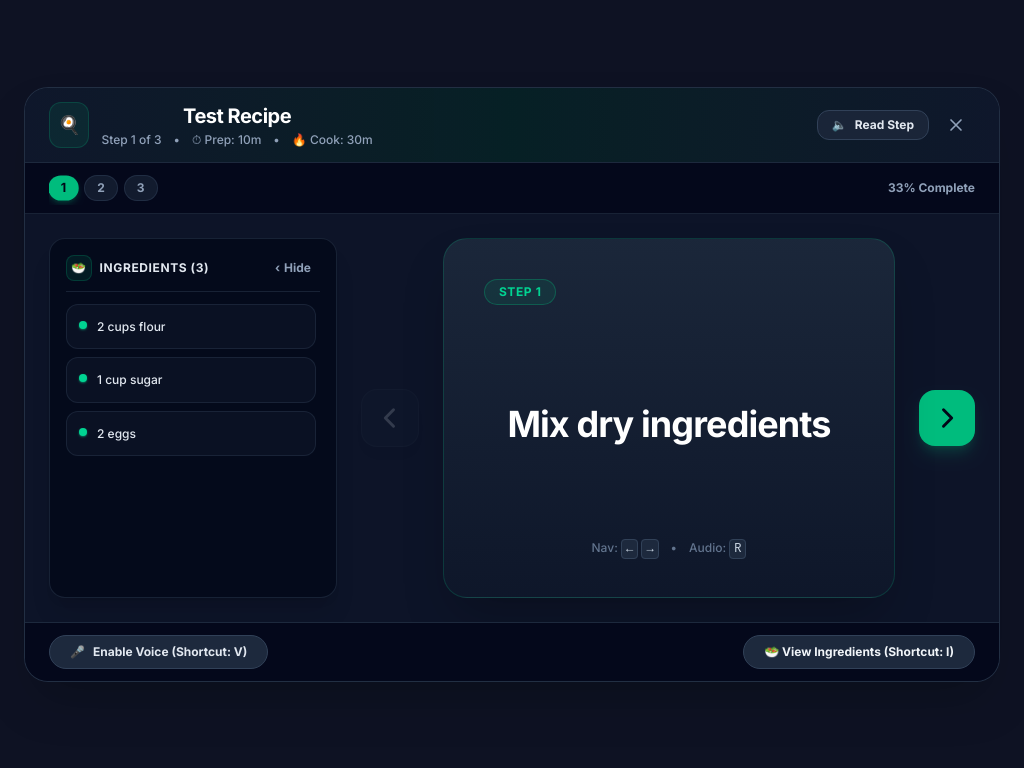
Test: CookingMode › should navigate to next step
The image size is (1024, 768).
Step 1. Click the button titled "Next step" → coordinates (947, 418), box top-left (919, 390), bottom-right (975, 446)
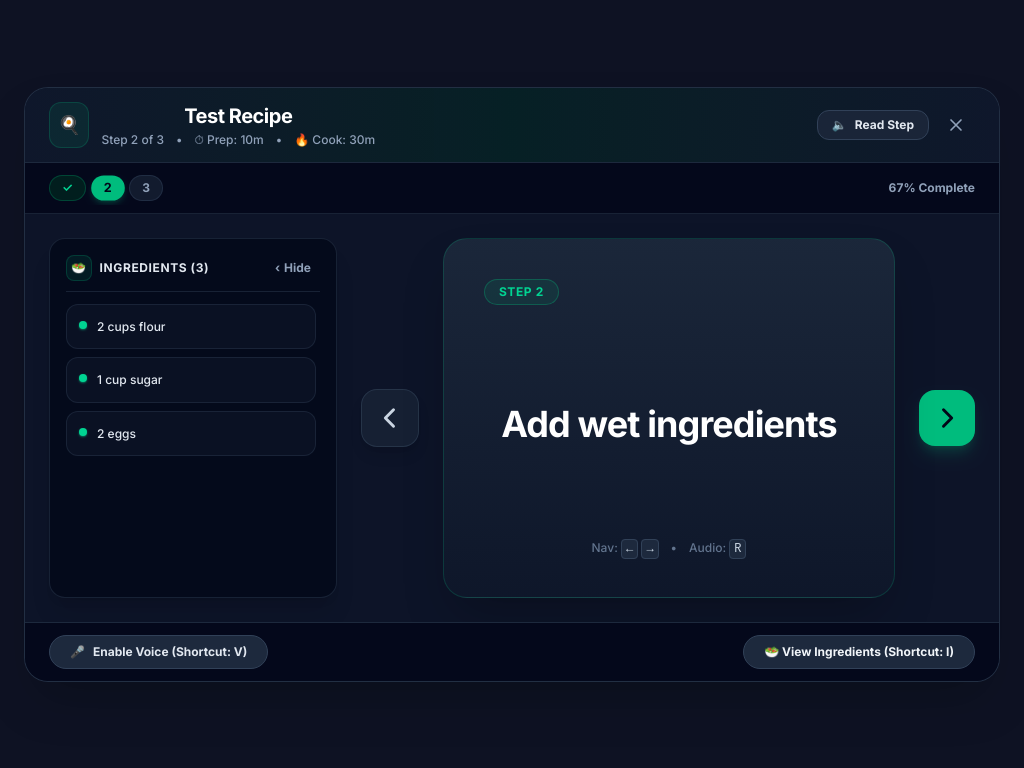
Expected: the text "Step 2 of 3" is shown, top-left (102, 132), bottom-right (164, 148)
Expected: the text "Add wet ingredients" is shown, top-left (501, 404), bottom-right (837, 444)
